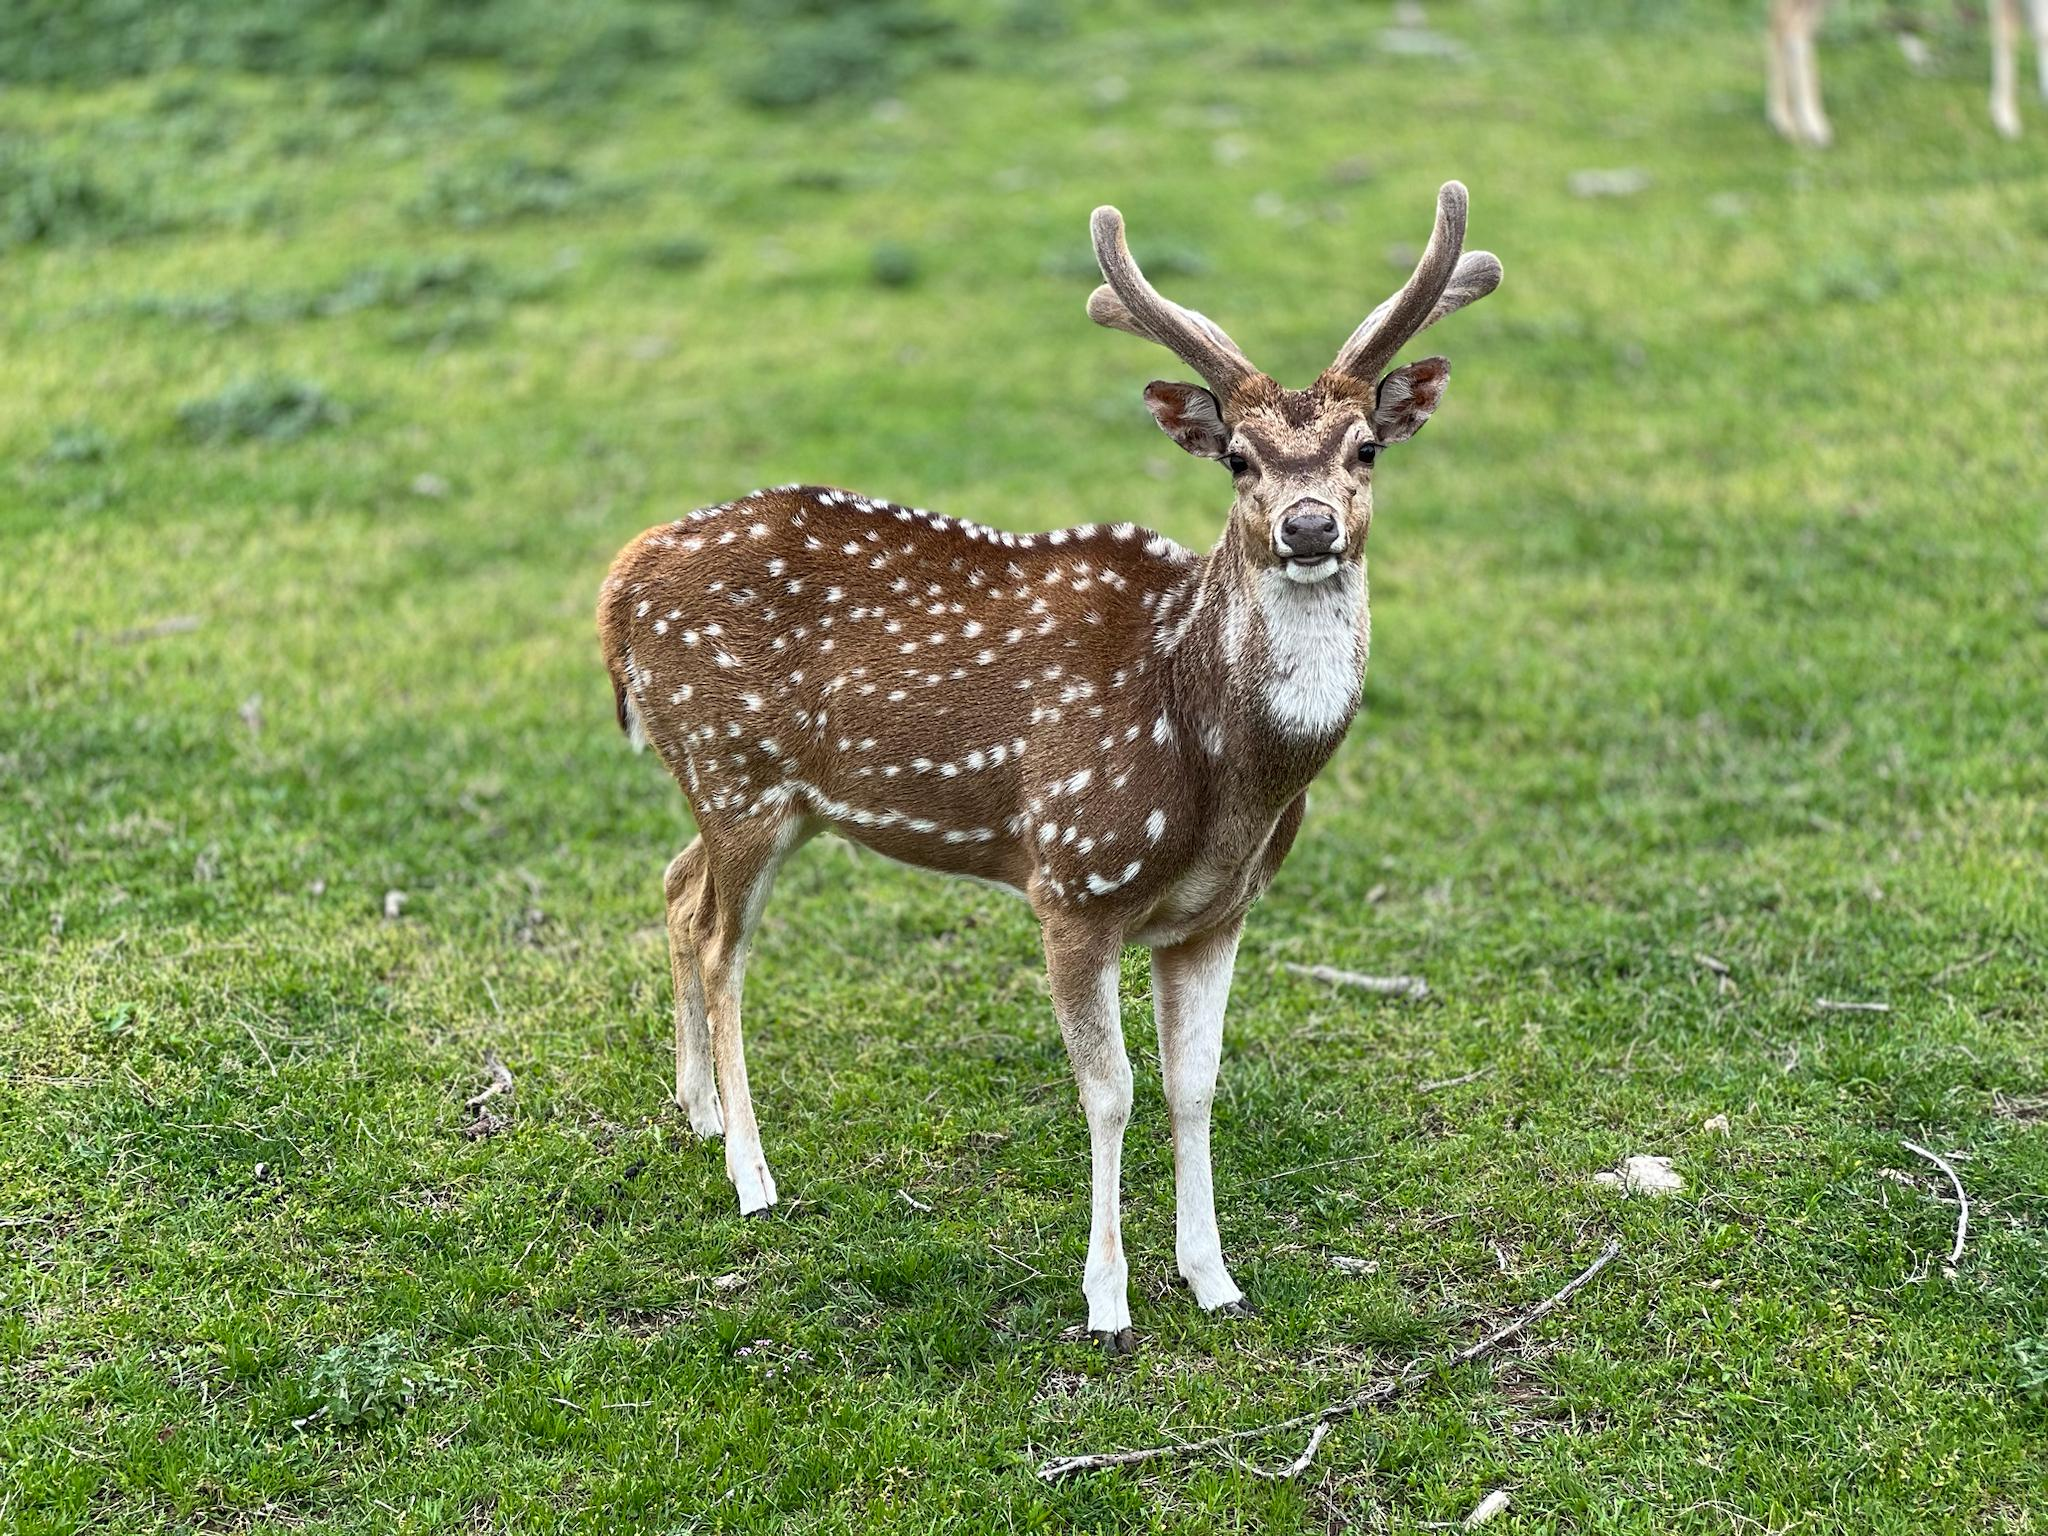Deer: (598, 181, 1500, 1342)
